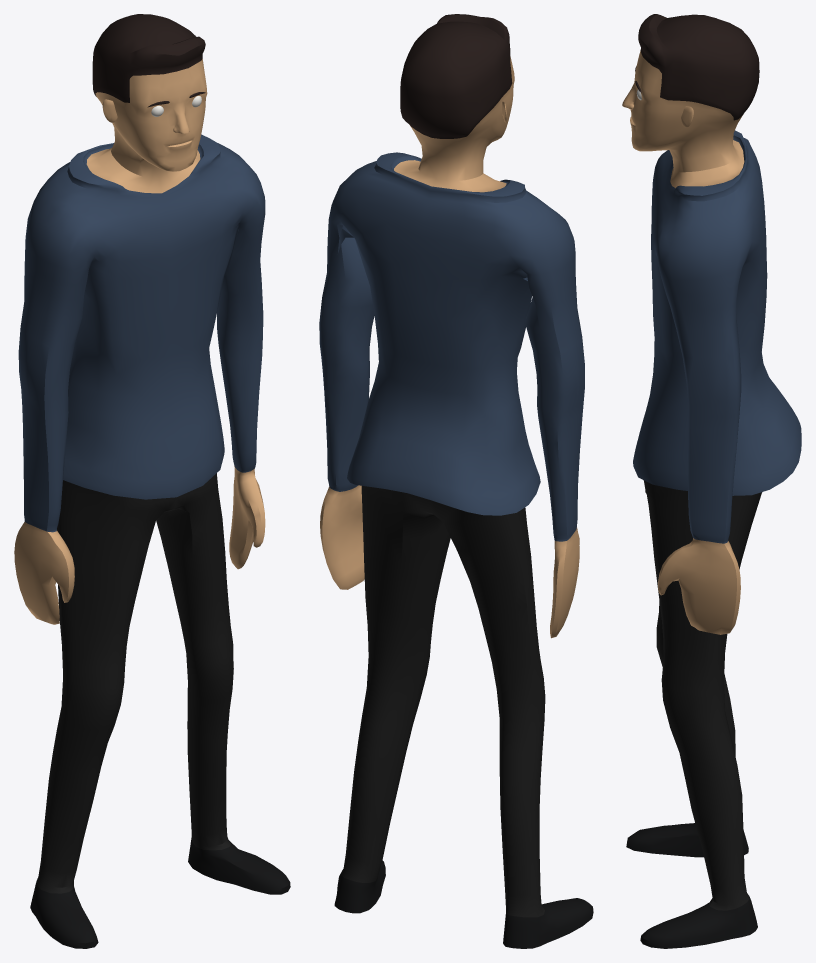
Rendered from smooth_male_longsleeve.glb.
3 views of the same model, side by side, from view 1: azimuth 30°, elevation 25°; view 2: azimuth 150°, elevation 25°; view 3: azimuth 270°, elevation 25° (orthographic).
Parts seen in each view (by area): view 1: SmoothMaleLongsleeve; view 2: SmoothMaleLongsleeve; view 3: SmoothMaleLongsleeve.
Part boxes in pixels (box(x1,y1,x2,y2)): SmoothMaleLongsleeve: box(14, 14, 290, 948); SmoothMaleLongsleeve: box(319, 14, 593, 948); SmoothMaleLongsleeve: box(622, 14, 801, 948).
Size of the model in its own units: 0.5222 by 1.8 by 0.3363.
